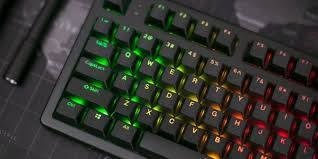keyboard: (51, 0, 318, 159)
